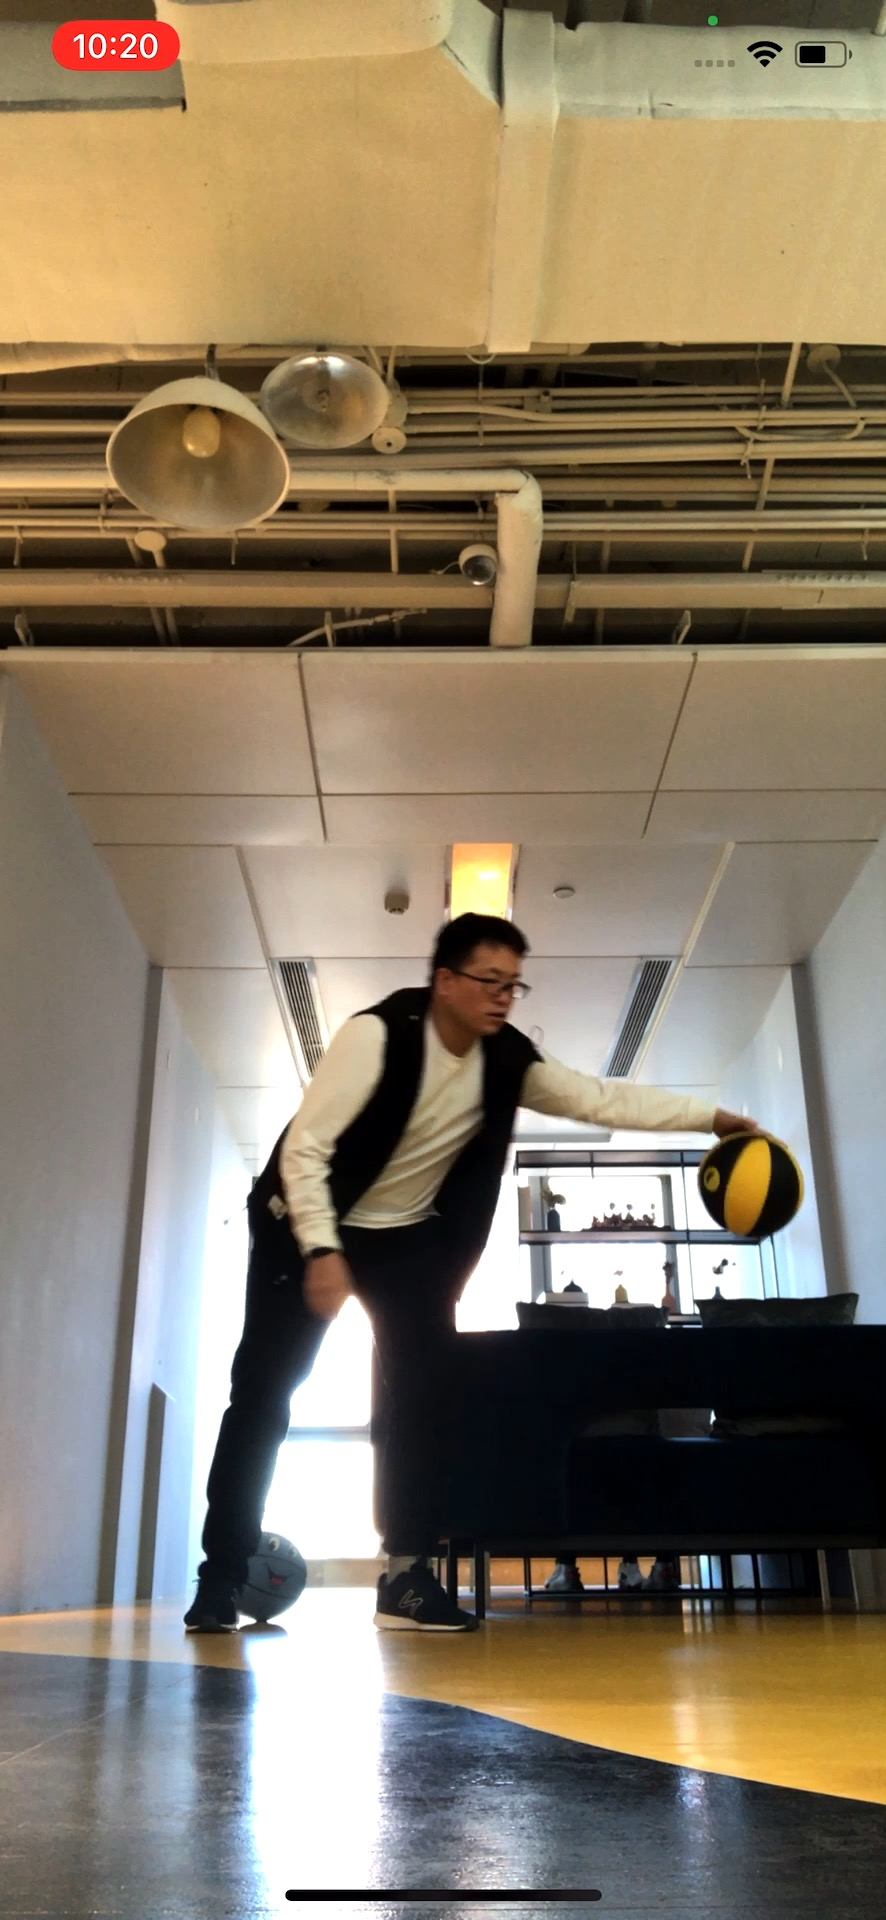ball: (698, 1127, 804, 1239), (235, 1529, 310, 1622)
